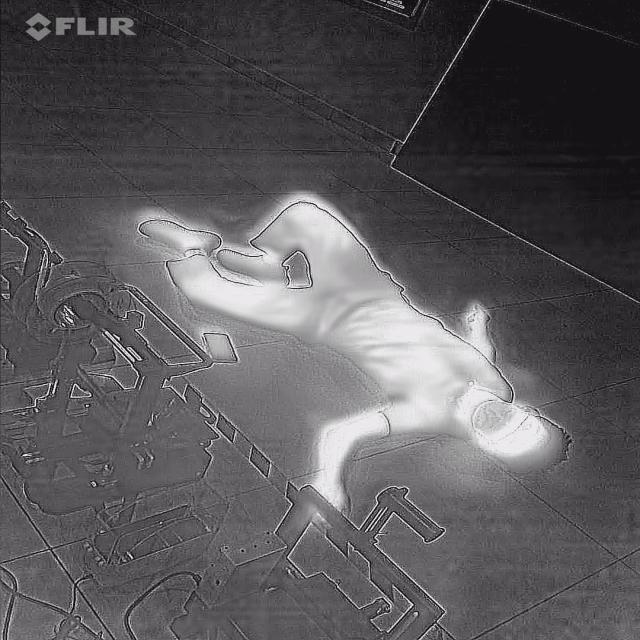Victim: (133, 185, 589, 530)
